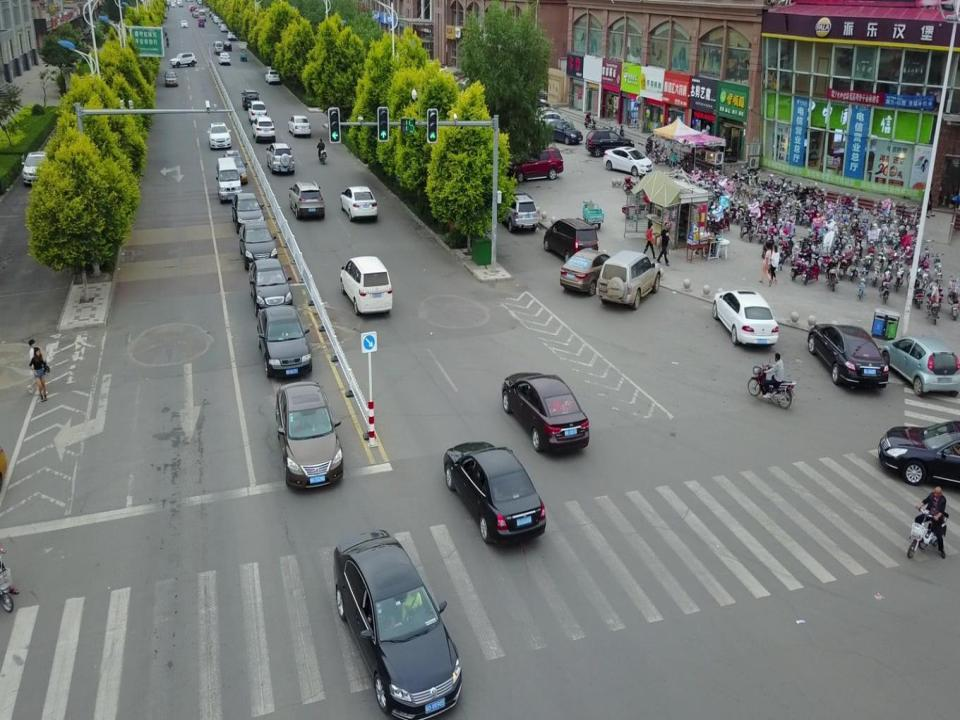car: (332, 528, 462, 720), (442, 439, 548, 544), (273, 378, 345, 492), (501, 372, 590, 456), (876, 416, 960, 492), (807, 322, 889, 390), (879, 333, 960, 398), (256, 304, 314, 377), (712, 289, 780, 349), (596, 250, 662, 310), (559, 248, 624, 298), (339, 255, 393, 315), (248, 258, 295, 315), (503, 146, 564, 182), (238, 220, 279, 271), (494, 191, 538, 235), (602, 146, 654, 177), (230, 191, 266, 234), (585, 128, 635, 158), (340, 185, 379, 223), (288, 180, 325, 220), (542, 119, 583, 146), (20, 152, 51, 185), (265, 141, 295, 175), (534, 111, 574, 134), (222, 150, 248, 185), (252, 116, 278, 144), (207, 122, 232, 150), (287, 115, 312, 137), (247, 100, 268, 124), (169, 52, 197, 68), (241, 89, 260, 111), (265, 68, 280, 86), (164, 68, 178, 86), (217, 53, 231, 66), (225, 30, 237, 42), (222, 40, 232, 52), (180, 20, 188, 28), (221, 24, 228, 32), (218, 20, 224, 26)
van: (542, 216, 600, 266), (215, 157, 243, 204), (212, 40, 224, 55), (197, 17, 205, 27)
